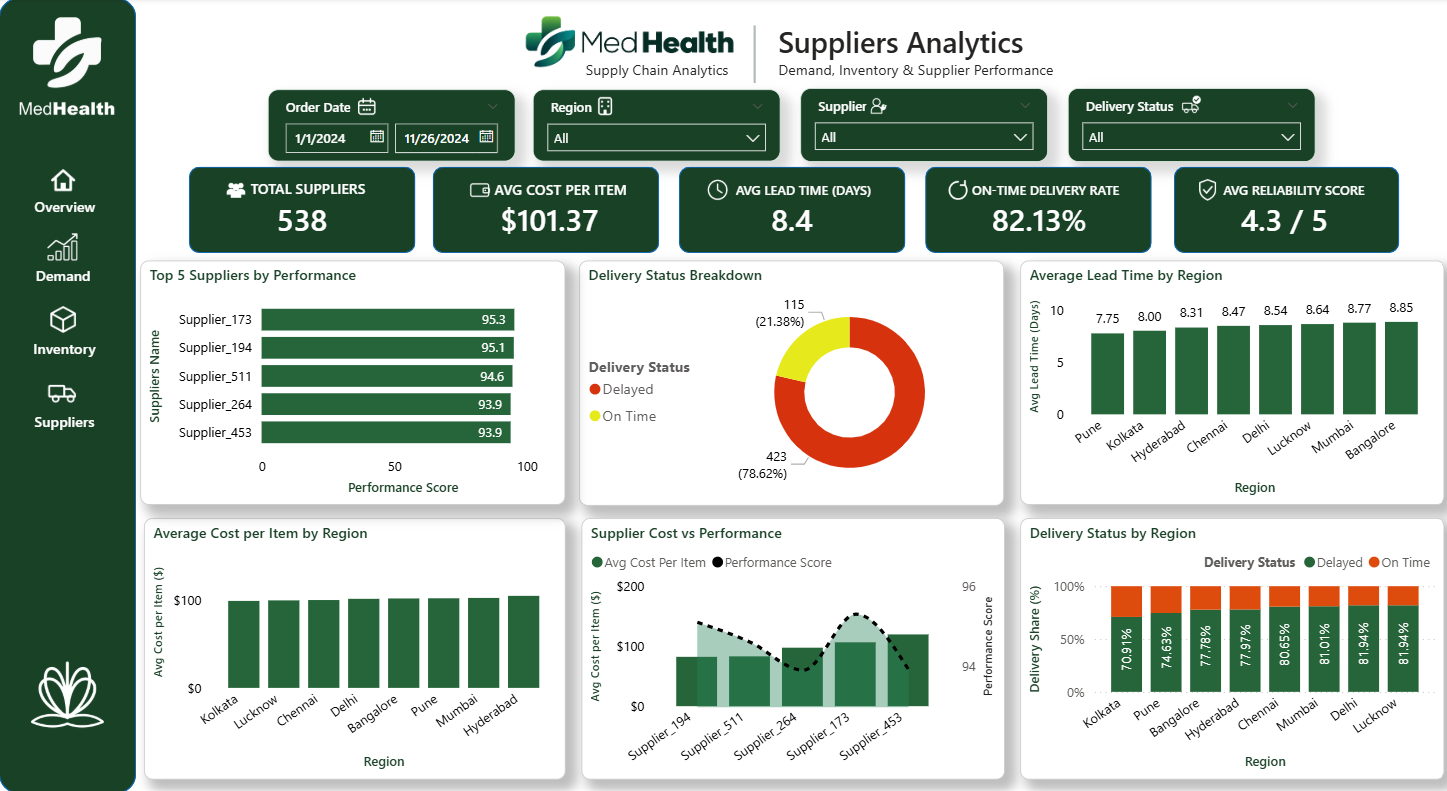

The dashboard page shown, as its layout file describes it:
{"tool":"powerbi","page":{"name":"Suppliers Analytics","canvas":[1350,740],"ordinal":3},"visuals":[{"type":"shape","box":[0,0,127.5,739.5],"z":0},{"type":"image","box":[468.5,0,234.9,80.2],"z":0,"group":"g1"},{"type":"image","box":[34.5,143.5,50,52.3],"z":0,"group":"g2"},{"type":"shape","box":[668.5,25.6,68.6,53.5],"z":1000,"group":"g1"},{"type":"textbox","box":[27.3,180.9,69.9,31.9],"z":1000,"group":"g2"},{"type":"image","box":[0,600,127.9,119.8],"z":1000},{"type":"textbox","box":[719.7,17.4,268.6,46.5],"z":2000,"group":"g1"},{"type":"image","box":[7,80.2,134.9,47.7],"z":2000},{"type":"image","box":[34.5,206.3,50,52.3],"z":2000,"group":"g2"},{"type":"image","box":[23.3,0,81.4,101.2],"z":3000},{"type":"textbox","box":[719.7,52.3,290.7,30.2],"z":3000,"group":"g1"},{"type":"textbox","box":[28.6,244.7,66.2,31.9],"z":3000,"group":"g2"},{"type":"textbox","box":[540.6,52.3,153.5,30.2],"z":4000,"group":"g1"},{"type":"slicer","fields":{"Values":["supplier_procurement.Last_Order_Date"]},"box":[250.2,84.4,230.2,67.4],"z":4000},{"type":"image","box":[34.5,272.6,50,52.3],"z":4000,"group":"g2"},{"type":"slicer","fields":{"Values":["supplier_procurement.Supplier_Name"]},"box":[744.4,83.2,230.2,68.6],"z":5000},{"type":"textbox","box":[23,312.1,77.3,28.2],"z":5000,"group":"g2"},{"type":"group","id":"g1","title":"Group 1","box":[468.5,0,542.1,82.2],"z":6000},{"type":"image","box":[34.5,338.8,50,52.3],"z":6000,"group":"g2"},{"type":"slicer","fields":{"Values":["supplier_procurement.Region"]},"box":[496.7,84.4,230.2,67.4],"z":7000},{"type":"textbox","box":[27.1,380.8,72.4,30.7],"z":7000,"group":"g2"},{"type":"slicer","fields":{"Values":["supplier_procurement.Delivery Status"]},"box":[993.2,83.2,230.2,68.6],"z":8000},{"type":"image","box":[322.3,80.9,40.7,37.2],"z":9000},{"type":"shape","box":[176.5,157,210.5,80.2],"z":10000},{"type":"image","box":[543.2,79.7,41.9,38.4],"z":11000},{"type":"image","box":[801.3,83.2,31.4,32.6],"z":12000},{"type":"image","box":[1092,82,31.4,32.6],"z":13000},{"type":"shape","box":[403.3,157,210.5,80.2],"z":14000},{"type":"shape","box":[632.3,157,210.5,80.2],"z":15000},{"type":"shape","box":[861.4,157,210.5,80.2],"z":16000},{"type":"donutChart","title":"Delivery Status Breakdown","fields":{"Y":["CountNonNull(supplier_procurement.Supplier_ID)"],"Category":["supplier_procurement.Delivery Status"]},"box":[539.6,244.1,394.9,228.1],"z":17000},{"type":"card","title":"TOTAL SALES","fields":{"Values":["supplier_procurement.Total Suppliers"]},"box":[157,168.3,250.2,77.3],"z":18000},{"type":"clusteredColumnChart","title":"Average Lead Time by Region","fields":{"Category":["supplier_procurement.Region"],"Y":["Avg(supplier_procurement.Avg_Lead_Time_Days)"]},"box":[949.4,244.6,395.1,227.2],"z":19000},{"type":"textbox","box":[229.3,163.1,133.7,29.4],"z":20000},{"type":"card","title":"TOTAL SALES","fields":{"Values":["supplier_procurement.Avg Cost Per Item"]},"box":[387,168.6,250,76.7],"z":21000},{"type":"textbox","box":[452.5,164.3,142.3,28.2],"z":22000},{"type":"card","title":"TOTAL SALES","fields":{"Values":["Avg(supplier_procurement.Avg_Lead_Time_Days)"]},"box":[612.6,168.6,250,76.7],"z":23000},{"type":"textbox","box":[680,164,147.7,27.9],"z":24000},{"type":"card","title":"TOTAL SALES","fields":{"Values":["supplier_procurement.On Time Delivery %"]},"box":[842.8,168.6,250,76.7],"z":25000},{"type":"image","box":[869.5,158.1,44.2,41.9],"z":26000},{"type":"textbox","box":[899.8,164,162.8,27.9],"z":27000},{"type":"shape","box":[1092.8,157,209.3,80.2],"z":28000},{"type":"image","box":[198.7,160.7,42.9,35.6],"z":29000},{"type":"image","box":[425.6,160.7,42.9,35.6],"z":30000},{"type":"image","box":[646.3,160.5,44.2,36],"z":31000},{"type":"textbox","box":[1133.2,164.3,153.3,28.2],"z":32000},{"type":"card","title":"TOTAL SALES","fields":{"Values":["supplier_procurement.Avg Reliability Score"]},"box":[1070.7,168.6,250,76.7],"z":33000},{"type":"image","box":[1102.1,160.5,44.2,36],"z":34000},{"type":"clusteredColumnChart","title":"Average Cost per Item by Region","fields":{"Category":["supplier_procurement.Region"],"Y":["supplier_procurement.Avg Cost Per Item"]},"box":[134.6,483.4,392.2,243.1],"z":35000},{"type":"lineClusteredColumnComboChart","title":"Supplier Cost vs Performance","fields":{"Category":["supplier_procurement.Supplier_Name"],"Y":["supplier_procurement.Avg Cost Per Item"],"Y2":["Avg(supplier_procurement.Supplier Performance Score)"]},"box":[541.3,483.4,393.7,243.1],"z":36000},{"type":"clusteredBarChart","title":"Top 5 Suppliers by Performance","fields":{"Category":["supplier_procurement.Supplier_Name"],"Y":["Avg(supplier_procurement.Supplier Performance Score)"]},"box":[131.7,244.6,395.1,227.2],"z":37000},{"type":"hundredPercentStackedColumnChart","title":"Delivery Status by Region","fields":{"Category":["supplier_procurement.Region"],"Y":["CountNonNull(supplier_procurement.Supplier_ID)"],"Series":["supplier_procurement.Delivery Status"]},"box":[949.2,483.2,394.9,242.8],"z":38000},{"type":"group","id":"g2","title":"Group 2","box":[23,143.5,77.3,268],"z":39000},{"type":"actionButton","box":[14.1,139.7,100,73.1],"z":40000},{"type":"actionButton","box":[14.1,206.4,100,70.5],"z":41000},{"type":"actionButton","box":[12.8,278.2,100,61.5],"z":42000},{"type":"actionButton","box":[6.4,351.3,100,71.8],"z":43000}]}

Visuals, with their boxes on the page's 1350x740 design canvas (x1, y1, x2, y2). These are canvas units, not pixel positions in the 1447x791 screenshot, which may show the page scaled, cropped or inside an application window:
shape: 0:0:128:740
image: 468:0:703:80
image: 34:144:84:196
shape: 668:26:737:79
textbox: 27:181:97:213
image: 0:600:128:720
textbox: 720:17:988:64
image: 7:80:142:128
image: 34:206:84:259
image: 23:0:105:101
textbox: 720:52:1010:82
textbox: 29:245:95:277
textbox: 541:52:694:82
slicer - supplier_procurement.Last_Order_Date: 250:84:480:152
image: 34:273:84:325
slicer - supplier_procurement.Supplier_Name: 744:83:975:152
textbox: 23:312:100:340
"Group 1" group: 468:0:1011:82
image: 34:339:84:391
slicer - supplier_procurement.Region: 497:84:727:152
textbox: 27:381:100:412
slicer - supplier_procurement.Delivery Status: 993:83:1223:152
image: 322:81:363:118
shape: 176:157:387:237
image: 543:80:585:118
image: 801:83:833:116
image: 1092:82:1123:115
shape: 403:157:614:237
shape: 632:157:843:237
shape: 861:157:1072:237
"Delivery Status Breakdown" donutChart: 540:244:934:472
"TOTAL SALES" card: 157:168:407:246
"Average Lead Time by Region" clusteredColumnChart: 949:245:1344:472
textbox: 229:163:363:192
"TOTAL SALES" card: 387:169:637:245
textbox: 452:164:595:192
"TOTAL SALES" card: 613:169:863:245
textbox: 680:164:828:192
"TOTAL SALES" card: 843:169:1093:245
image: 870:158:914:200
textbox: 900:164:1063:192
shape: 1093:157:1302:237
image: 199:161:242:196
image: 426:161:468:196
image: 646:160:690:196
textbox: 1133:164:1286:192
"TOTAL SALES" card: 1071:169:1321:245
image: 1102:160:1146:196
"Average Cost per Item by Region" clusteredColumnChart: 135:483:527:726
"Supplier Cost vs Performance" lineClusteredColumnComboChart: 541:483:935:726
"Top 5 Suppliers by Performance" clusteredBarChart: 132:245:527:472
"Delivery Status by Region" hundredPercentStackedColumnChart: 949:483:1344:726
"Group 2" group: 23:144:100:412
actionButton: 14:140:114:213
actionButton: 14:206:114:277
actionButton: 13:278:113:340
actionButton: 6:351:106:423
